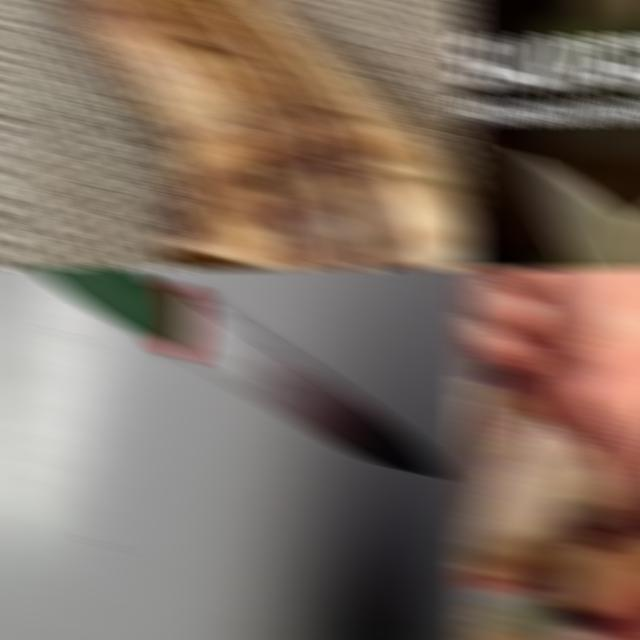Knife: (30, 266, 448, 477)
Knife_Handle: (458, 266, 632, 626), (515, 148, 640, 270)
